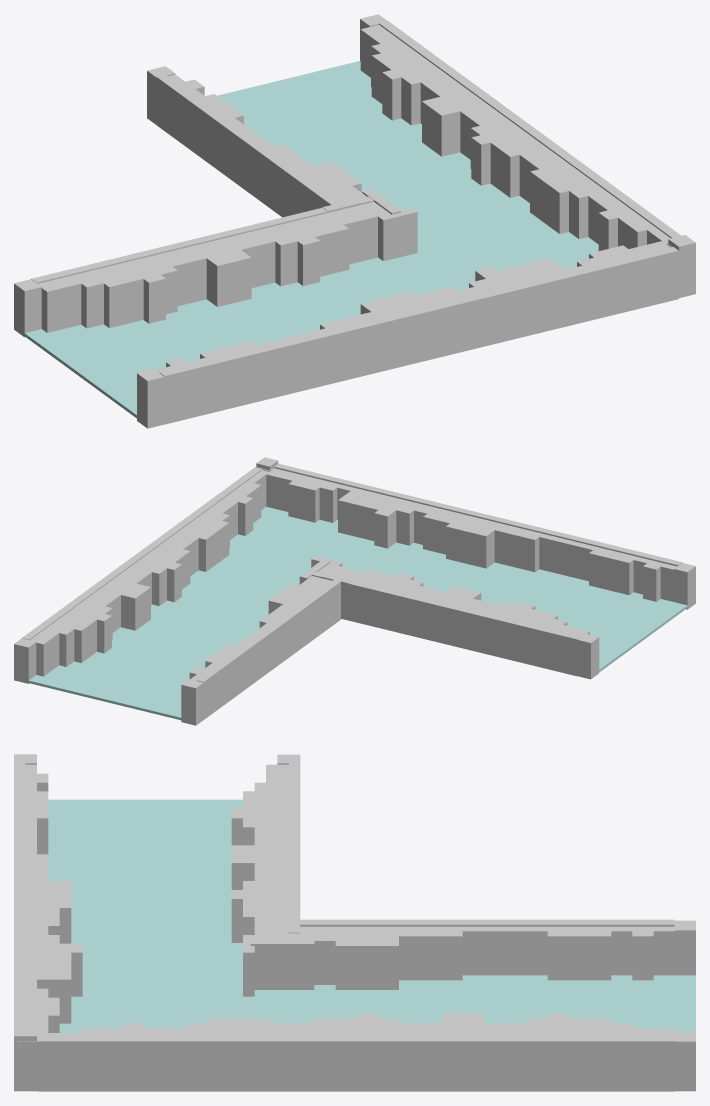
Rendered from road18.fbx.
3 views of the same model, one above another, from view 1: azimuth 30°, elevation 25°; view 2: azimuth 150°, elevation 25°; view 3: azimuth 270°, elevation 25° (orthographic). The views are drawn at different scales.
Parts seen in each view (by area): view 1: Plane_5; view 2: Plane_5; view 3: Plane_5.
Boxes of the visible parts, x1,y1,x2,y2 form: Plane_5: (14,14,695,428); Plane_5: (14,457,695,725); Plane_5: (14,754,695,1091).
Bounding box in the file's own units: 5110 × 466 × 5130.
